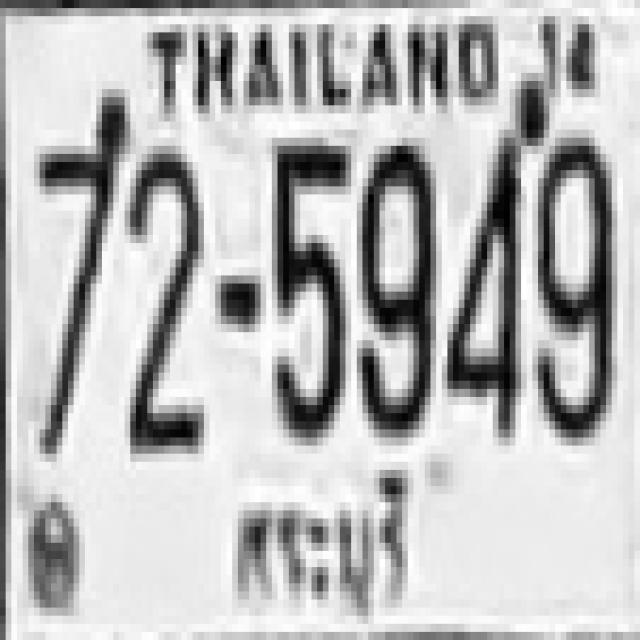2: (122, 146, 201, 437), (125, 146, 198, 413)
4: (442, 130, 521, 438)
5: (266, 138, 346, 429)
7: (34, 93, 125, 442)
9: (532, 130, 612, 438), (357, 138, 430, 429)
SRI: (217, 468, 418, 626)
